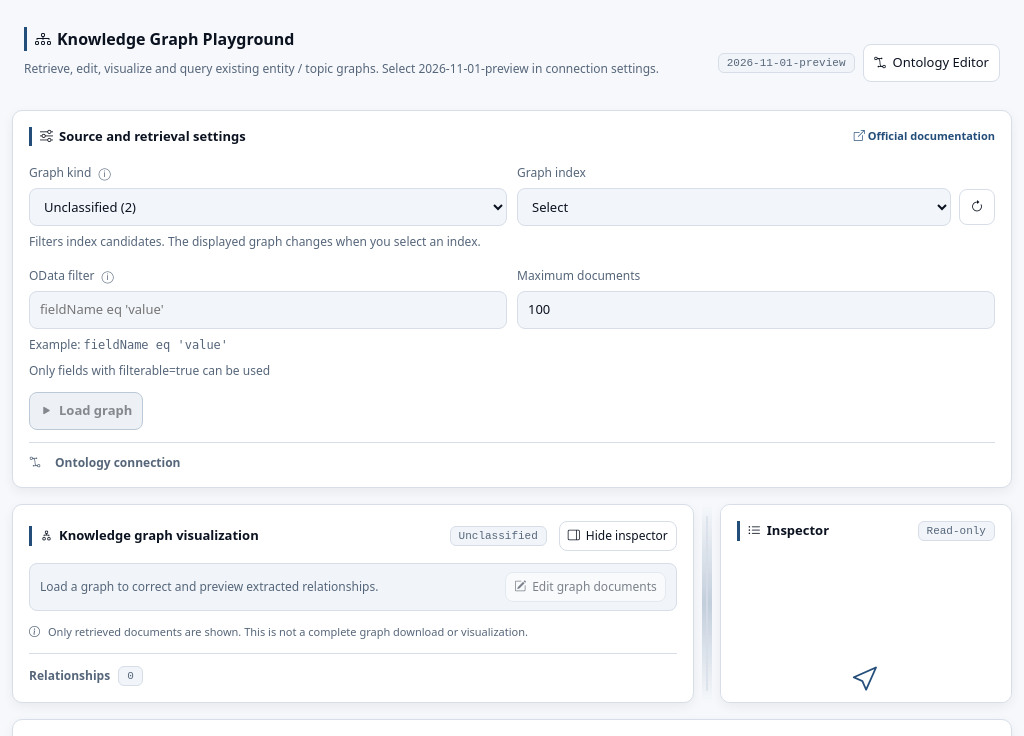
KnowledgeGraphPlayground controls › dismisses the document editor from the header without applying staged edits
Step 1. Select "graph-a" in the dropdown named "Graph index" → [734, 207], box [517, 188, 951, 226]
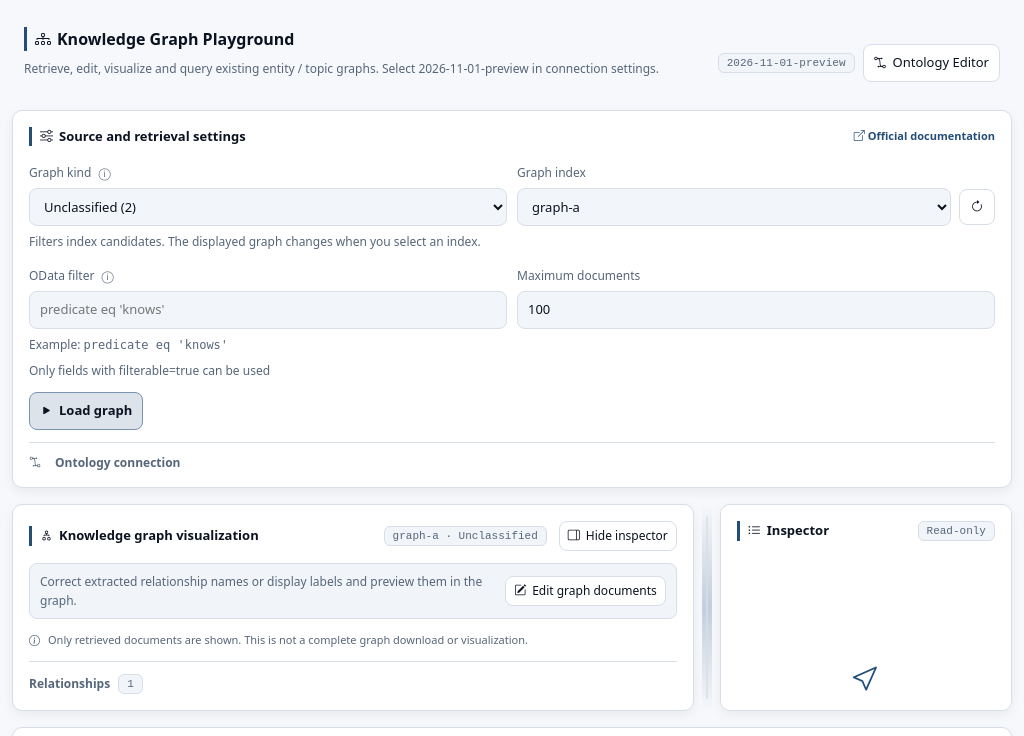
Step 2. Click the button "Edit graph documents" → [585, 591], box [505, 576, 666, 606]
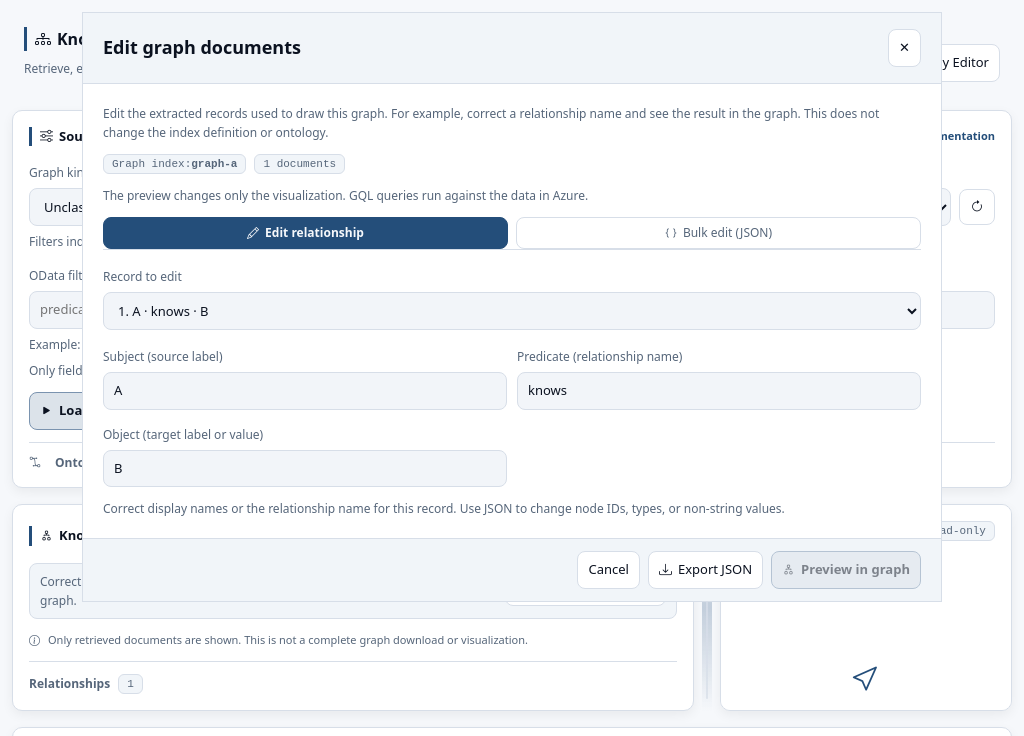
Step 3. Replace the text in the field labelled "Predicate (relationship name)" with "worksWith" → [719, 391], box [517, 372, 921, 410]
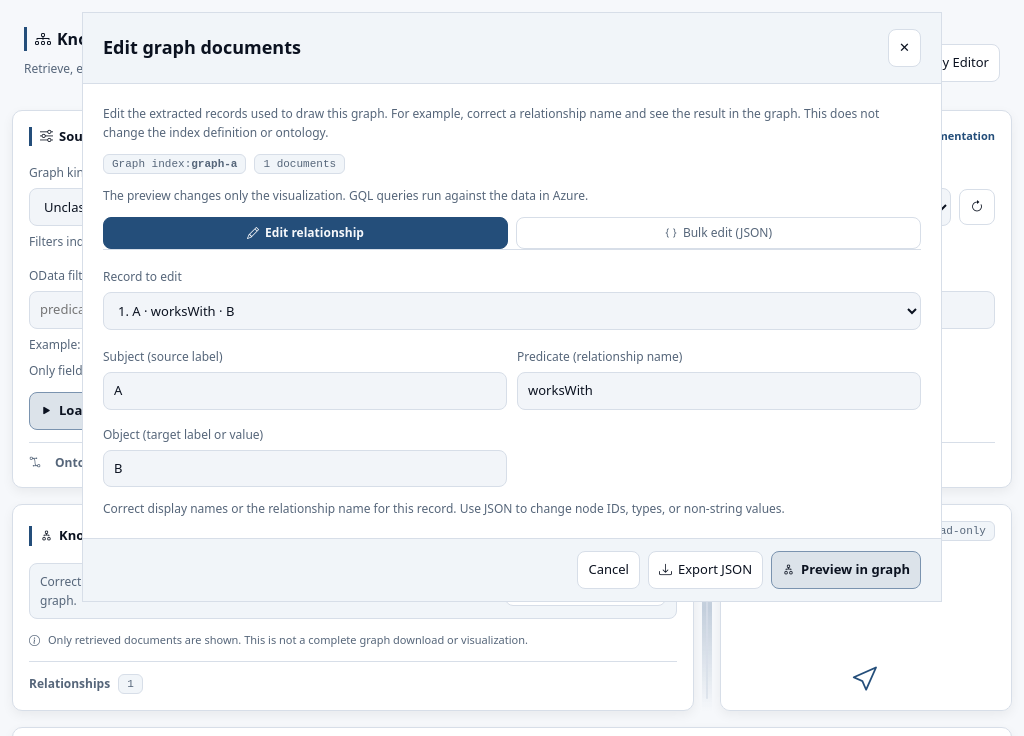
Step 4. Click the button named "Close" → [905, 48], box [888, 29, 921, 66]
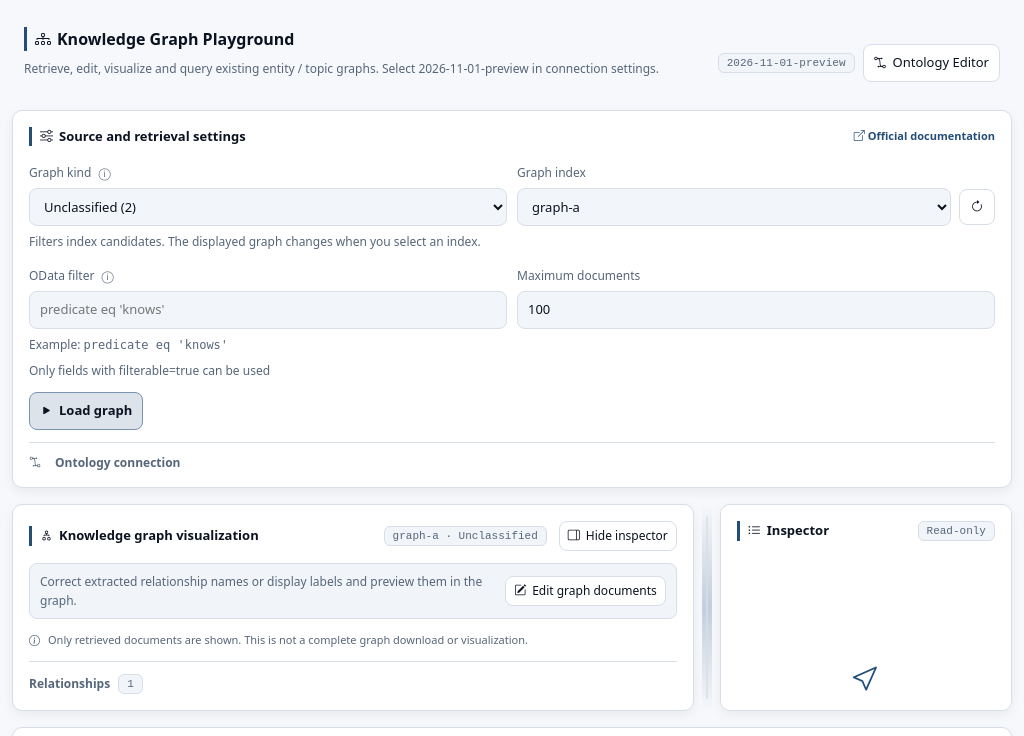
Step 5. Click the button "Edit graph documents" → [585, 591], box [505, 576, 666, 606]
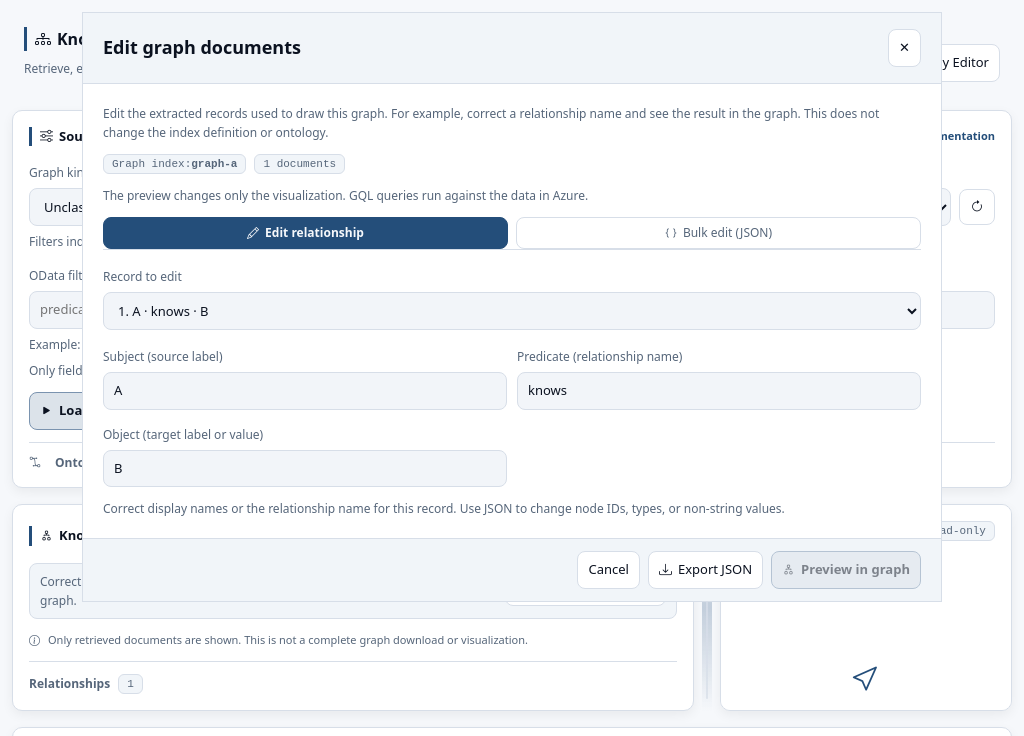
Result: the field labelled "Predicate (relationship name)" holds "knows" at [517, 372, 921, 410]
